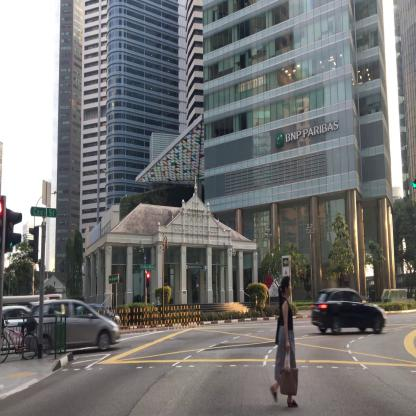red_traffic_light: (146, 273, 149, 286)
